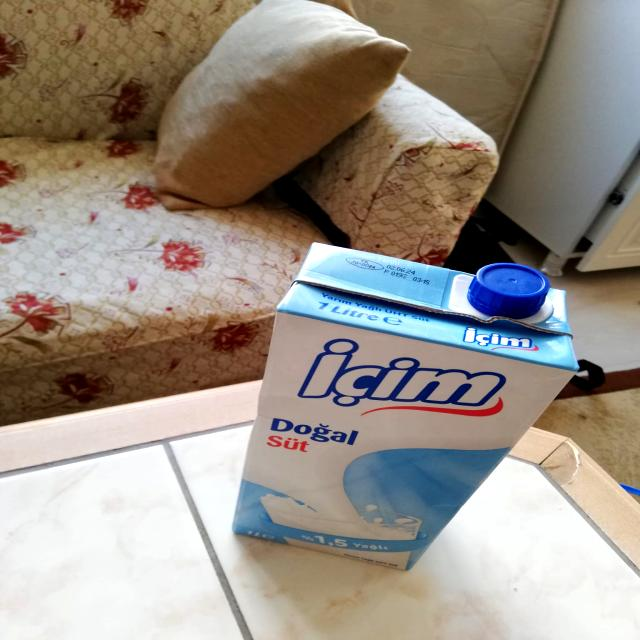milk: (236, 236, 568, 571)
